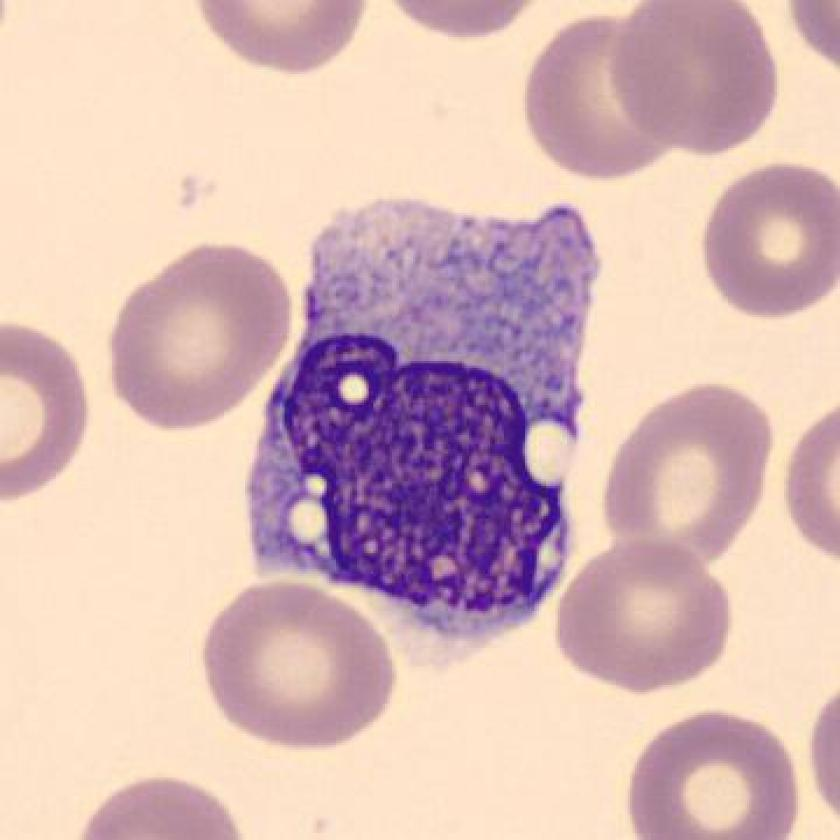monocyte: (234, 177, 631, 684)
